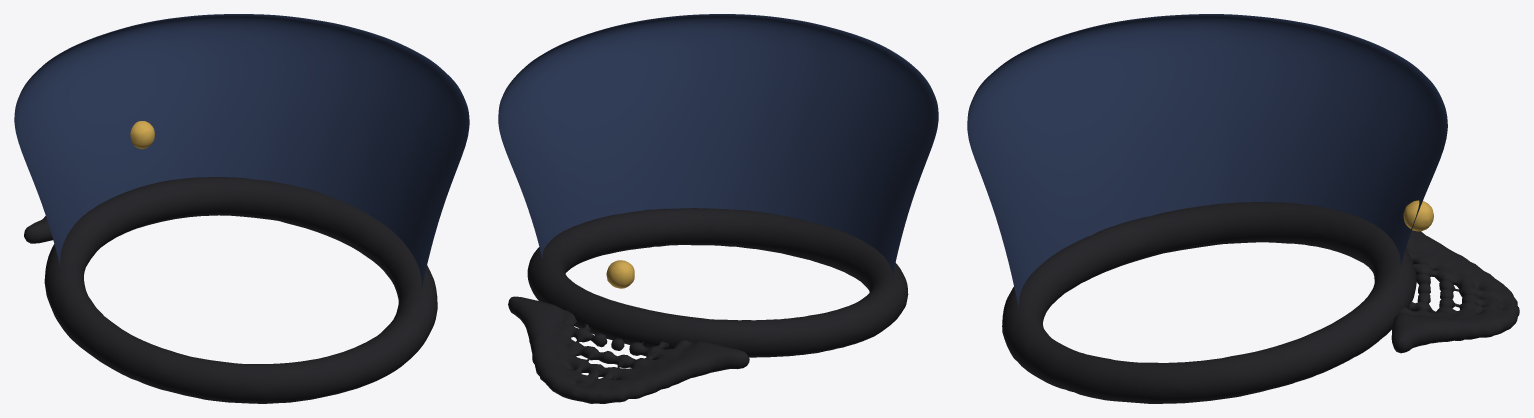
Rendered from cap_driver_f.glb.
The picture shows the model from 3 angles, left to right: view 1: azimuth 30°, elevation 25°; view 2: azimuth 150°, elevation 25°; view 3: azimuth 270°, elevation 25°; orthographic projection. The views are drawn at different scales.
Parts seen in each view (by area): view 1: Acc_cap_driver_Cap, Acc_cap_driver_CapBand, Acc_cap_driver_CapBadge, Acc_cap_driver_CapVisor; view 2: Acc_cap_driver_Cap, Acc_cap_driver_CapBand, Acc_cap_driver_CapVisor, Acc_cap_driver_CapBadge; view 3: Acc_cap_driver_Cap, Acc_cap_driver_CapBand, Acc_cap_driver_CapVisor, Acc_cap_driver_CapBadge.
Boxes of the visible parts, bbox=[...] form: Acc_cap_driver_Cap: bbox=[14, 14, 469, 290]; Acc_cap_driver_CapBand: bbox=[44, 177, 437, 403]; Acc_cap_driver_CapBadge: bbox=[130, 121, 154, 149]; Acc_cap_driver_CapVisor: bbox=[24, 216, 52, 243]; Acc_cap_driver_Cap: bbox=[498, 14, 938, 276]; Acc_cap_driver_CapBand: bbox=[527, 208, 908, 357]; Acc_cap_driver_CapVisor: bbox=[508, 296, 749, 403]; Acc_cap_driver_CapBadge: bbox=[606, 260, 634, 288]; Acc_cap_driver_Cap: bbox=[967, 14, 1447, 309]; Acc_cap_driver_CapBand: bbox=[1002, 202, 1416, 403]; Acc_cap_driver_CapVisor: bbox=[1391, 230, 1519, 353]; Acc_cap_driver_CapBadge: bbox=[1403, 200, 1433, 231].
Size of the model in its own units: 0.4579 by 0.2656 by 0.5342.
